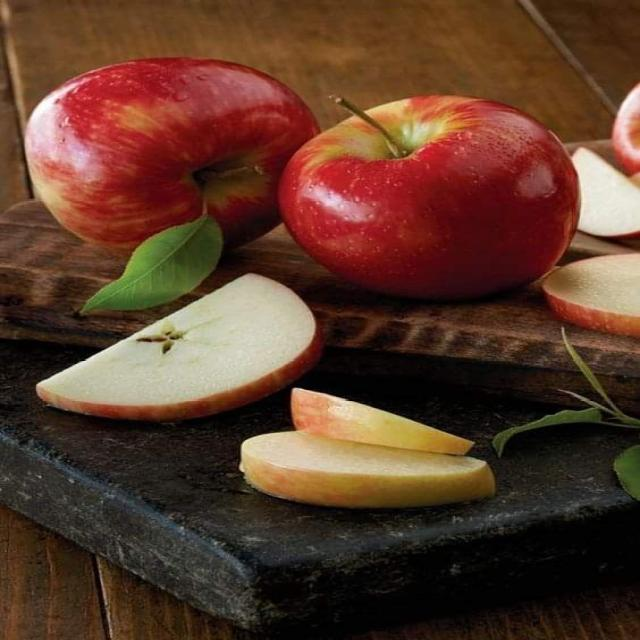apple: (280, 96, 578, 299), (25, 58, 317, 251), (37, 274, 322, 421), (241, 432, 494, 508), (291, 389, 473, 454), (543, 253, 639, 337), (574, 148, 639, 238), (612, 84, 639, 174)
